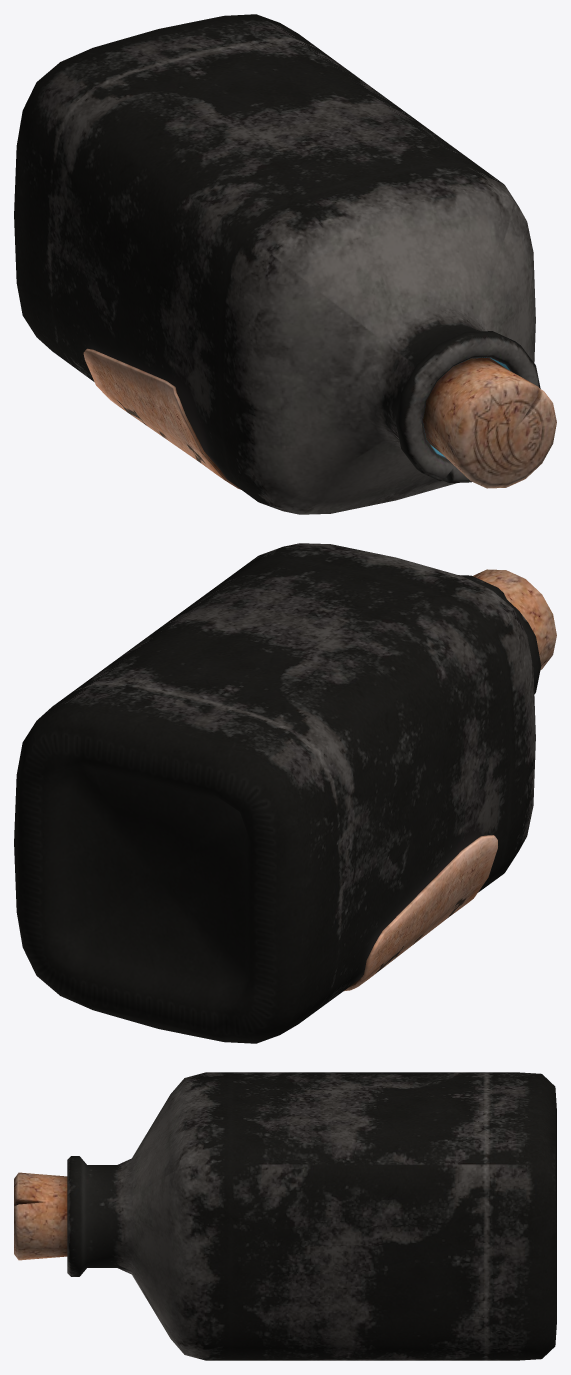
3 renders of one model, top to bottom at view 1: azimuth 30°, elevation 25°; view 2: azimuth 150°, elevation 25°; view 3: azimuth 270°, elevation 25°, orthographic. The views are drawn at different scales.
Visible parts, largest first — view 1: Bottle_LP, Cork_LP, Lable_LP; view 2: Bottle_LP, Lable_LP, Cork_LP; view 3: Bottle_LP, Cork_LP.
Boxes of the visible parts, x1,y1,x2,y2 form: Bottle_LP: (14, 14, 540, 514); Cork_LP: (423, 357, 556, 488); Lable_LP: (83, 348, 240, 489); Bottle_LP: (14, 543, 541, 1043); Lable_LP: (344, 835, 497, 991); Cork_LP: (473, 569, 556, 670); Bottle_LP: (67, 1072, 556, 1360); Cork_LP: (14, 1172, 67, 1260).
Bounding box in the file's own units: 20.91 × 20.21 × 42.81.
